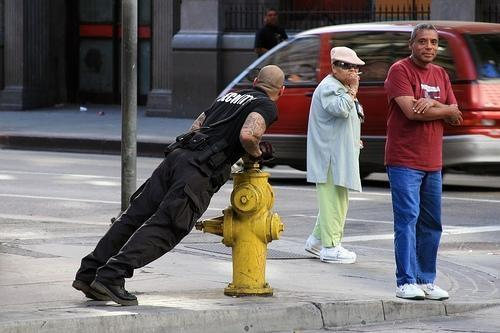car: (220, 18, 500, 180)
